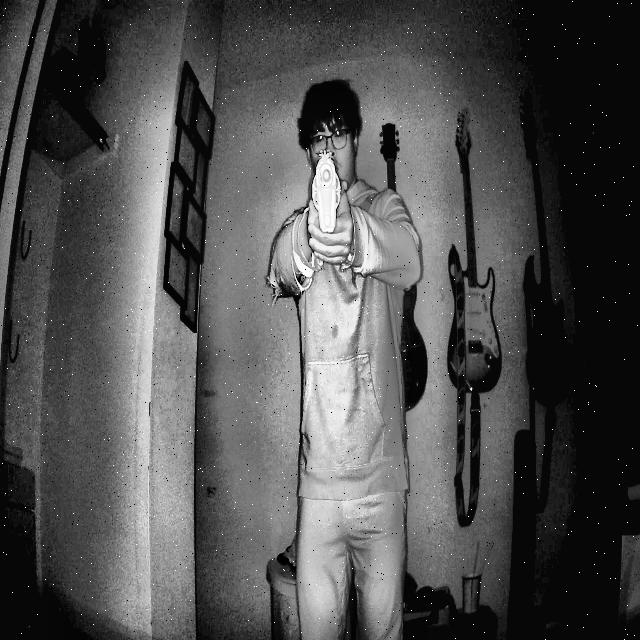Nerf_Blaster: (296, 137, 359, 263)
